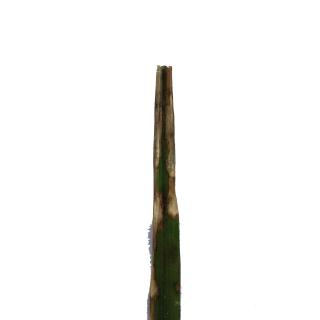Hawar-Daun: (148, 63, 183, 220)
